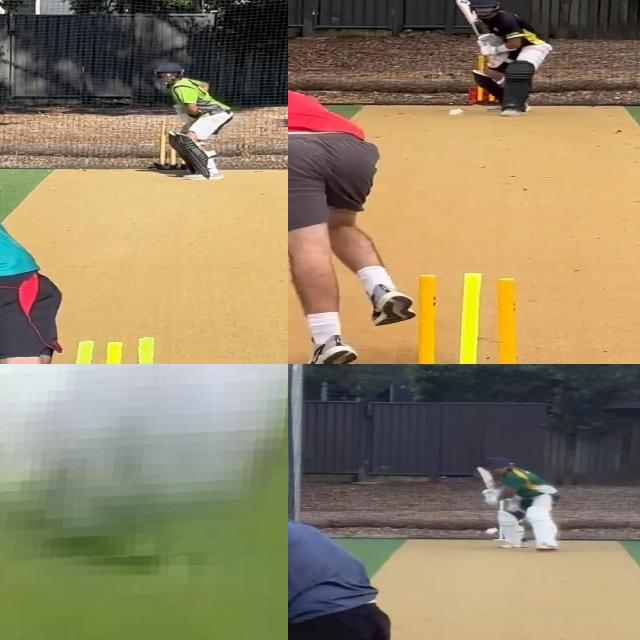Cricket ball: (0, 364, 288, 567), (447, 107, 465, 118), (484, 526, 500, 535)
Stumps: (394, 272, 541, 364)
